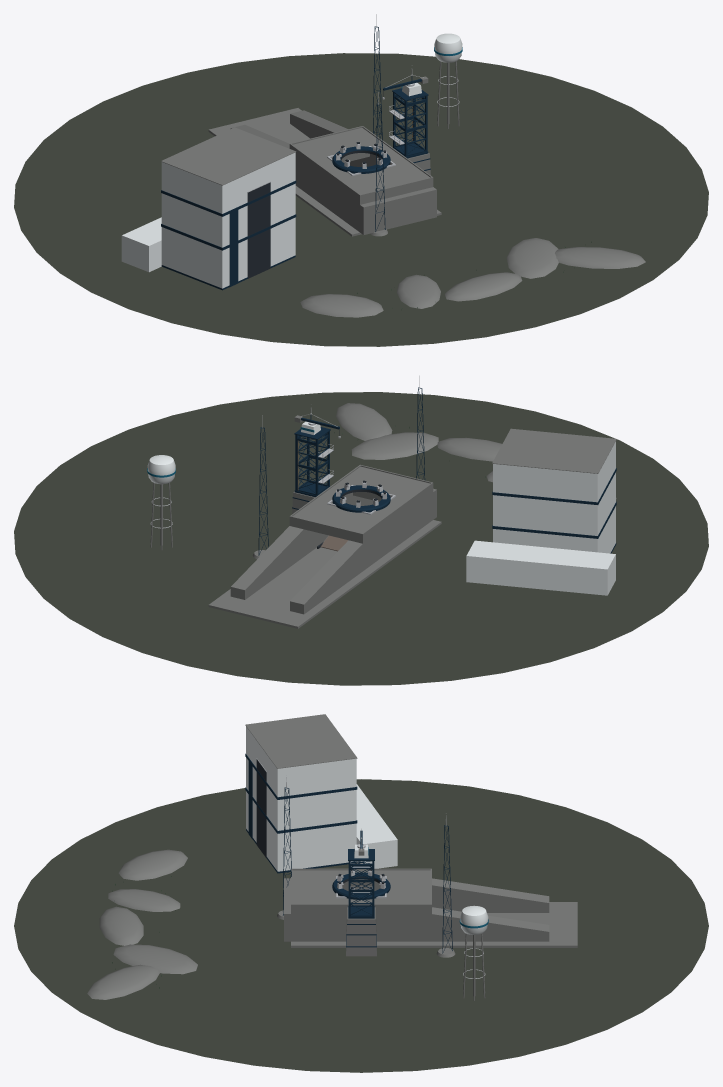
Rendered from site_subtropical_coast.glb.
The picture shows the model from 3 angles, top to bottom: view 1: azimuth 30°, elevation 25°; view 2: azimuth 150°, elevation 25°; view 3: azimuth 270°, elevation 25°; orthographic projection.
Visible parts, largest first — view 1: site_subtropical_coast_mesh; view 2: site_subtropical_coast_mesh; view 3: site_subtropical_coast_mesh.
Part boxes in pixels (<box>): site_subtropical_coast_mesh: <box>14,14,708,346</box>; site_subtropical_coast_mesh: <box>14,375,708,685</box>; site_subtropical_coast_mesh: <box>14,714,708,1072</box>.
Bounding box in the file's own units: 148 × 33.08 × 148.
